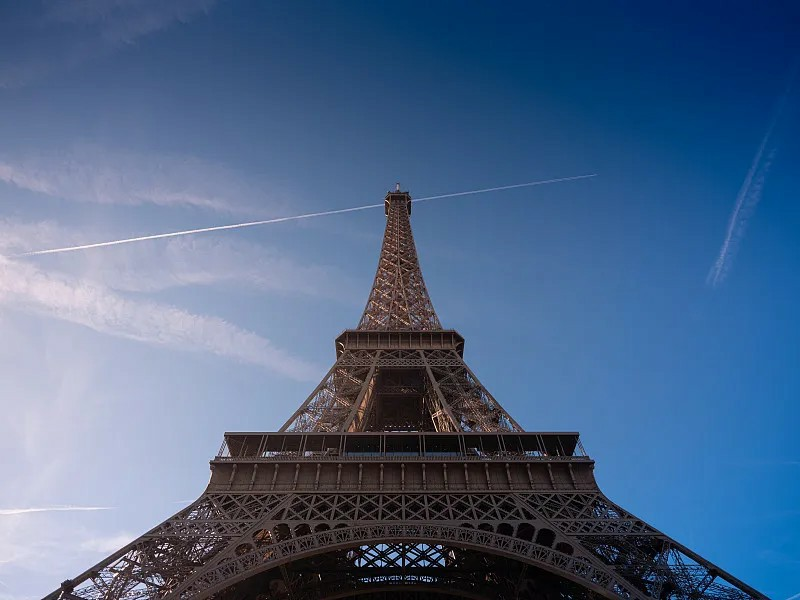Eiffel: (38, 182, 778, 600)
